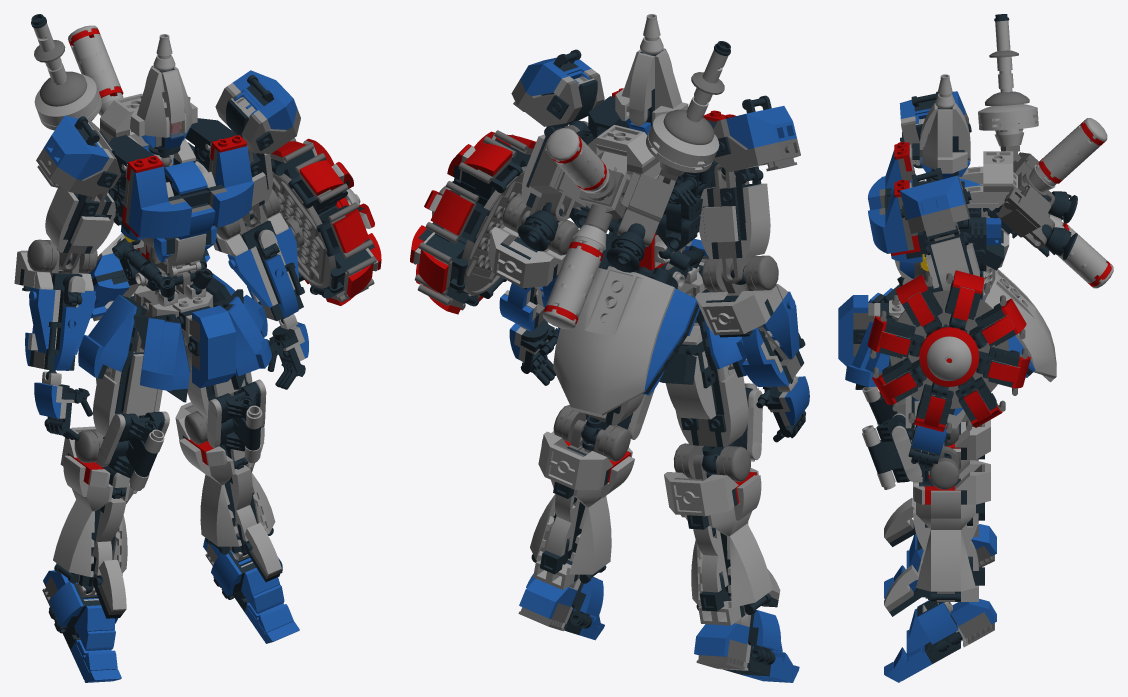
File: yms-15-gyan.dae
The picture shows the model from 3 angles, left to right: view 1: azimuth 30°, elevation 25°; view 2: azimuth 150°, elevation 25°; view 3: azimuth 270°, elevation 25°; orthographic projection. The views are drawn at different scales.
Size of the model in its own units: 471 by 368 by 862.
